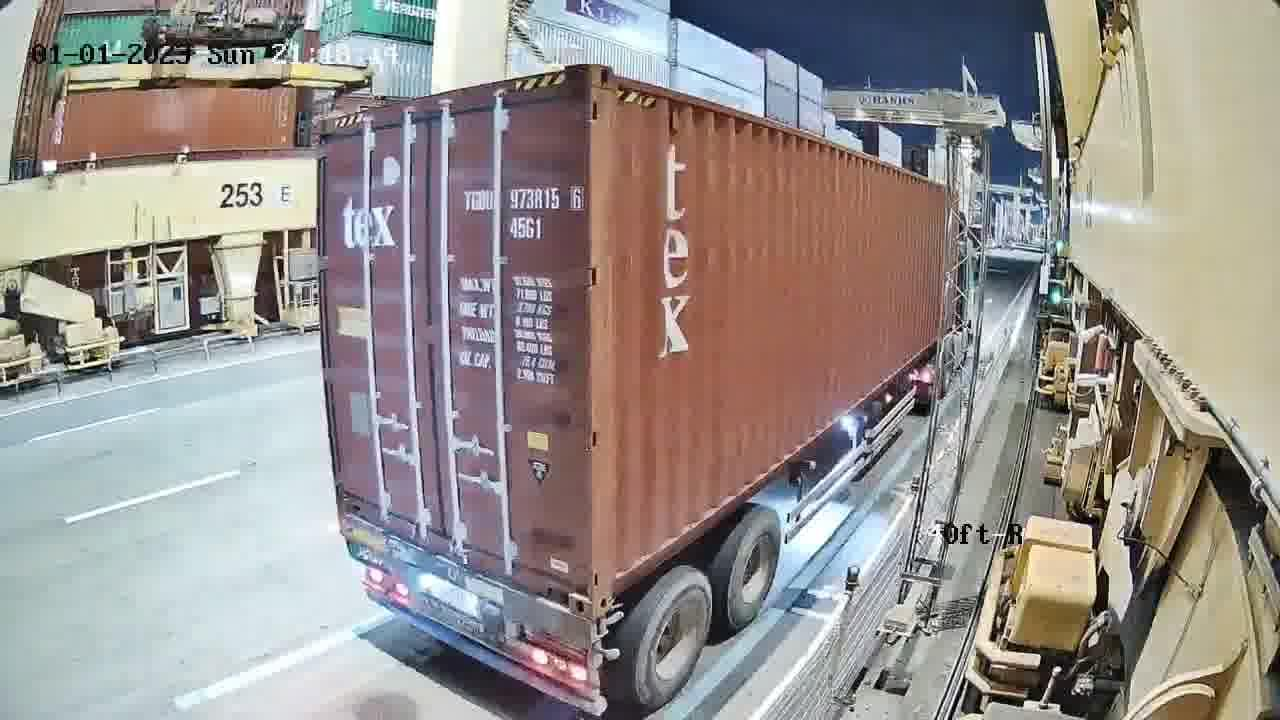Chassis: (343, 519, 596, 638)
Cone: (593, 610, 614, 647)
Hole_L: (592, 536, 636, 619)
Hole_R: (543, 553, 592, 621)
Tire: (635, 572, 714, 706), (725, 510, 780, 630)
